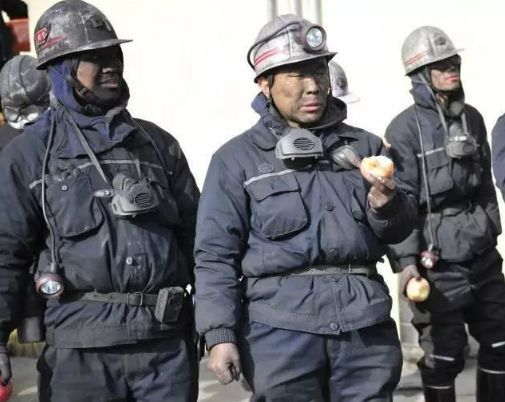helmet: (27, 2, 141, 113), (251, 14, 349, 128), (402, 27, 476, 103)
